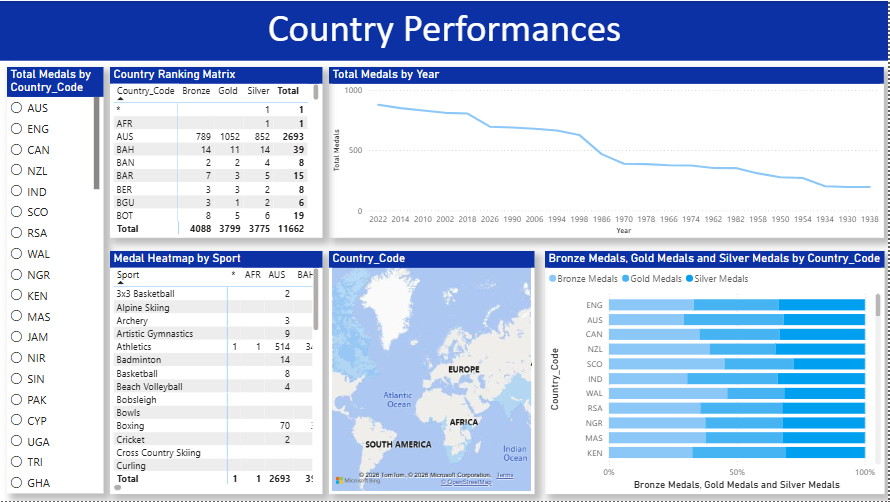

Layout of this report page (visuals, bound fields, positions):
{"tool":"powerbi","page":{"name":"Country Performance","canvas":[1280,720],"ordinal":1},"visuals":[{"type":"textbox","box":[0,0,1280.3,85.6],"z":0},{"type":"listSlicer","fields":{"Values":["Commonwealth_Medalists_1930_2026.Country_Code"]},"box":[10,95.7,138.6,614.3],"z":1000},{"type":"hundredPercentStackedBarChart","fields":{"Category":["Commonwealth_Medalists_1930_2026.Country_Code"],"Y":["Commonwealth_Medalists_1930_2026.Bronze Medals","Commonwealth_Medalists_1930_2026.Gold Medals","Commonwealth_Medalists_1930_2026.Silver Medals"]},"box":[784.3,360,488.6,350],"z":2000},{"type":"lineChart","fields":{"Y":["Commonwealth_Medalists_1930_2026.Total Medals"],"Category":["Commonwealth_Medalists_1930_2026.Year"]},"box":[474.3,95.7,798.6,245.7],"z":3000},{"type":"pivotTable","title":"Country Ranking Matrix","fields":{"Rows":["Commonwealth_Medalists_1930_2026.Country_Code"],"Columns":["Commonwealth_Medalists_1930_2026.Medal"],"Values":["Commonwealth_Medalists_1930_2026.Total Medals"]},"box":[158.6,95.7,305.7,245.7],"z":4000},{"type":"pivotTable","title":"Medal Heatmap by Sport","fields":{"Rows":["Commonwealth_Medalists_1930_2026.Sport"],"Values":["Commonwealth_Medalists_1930_2026.Total Medals"],"Columns":["Commonwealth_Medalists_1930_2026.Country_Code"]},"box":[158.6,360,305.7,350],"z":5000},{"type":"filledMap","fields":{"Category":["Commonwealth_Medalists_1930_2026.Country_Code"]},"box":[474.3,360,295.7,350],"z":6000}]}

Visuals, with their boxes in screenshot pixels (x1, y1, x2, y2), scaled from the page's 1280x720 canvas onto the 890x502 screenshot:
textbox: BBox(0, 0, 889, 60)
listSlicer - Commonwealth_Medalists_1930_2026.Country_Code: BBox(7, 67, 103, 495)
hundredPercentStackedBarChart - Commonwealth_Medalists_1930_2026.Country_Code x Commonwealth_Medalists_1930_2026.Bronze Medals: BBox(545, 251, 885, 495)
lineChart - Commonwealth_Medalists_1930_2026.Total Medals x Commonwealth_Medalists_1930_2026.Year: BBox(330, 67, 885, 238)
"Country Ranking Matrix" pivotTable: BBox(110, 67, 323, 238)
"Medal Heatmap by Sport" pivotTable: BBox(110, 251, 323, 495)
filledMap - Commonwealth_Medalists_1930_2026.Country_Code: BBox(330, 251, 535, 495)
